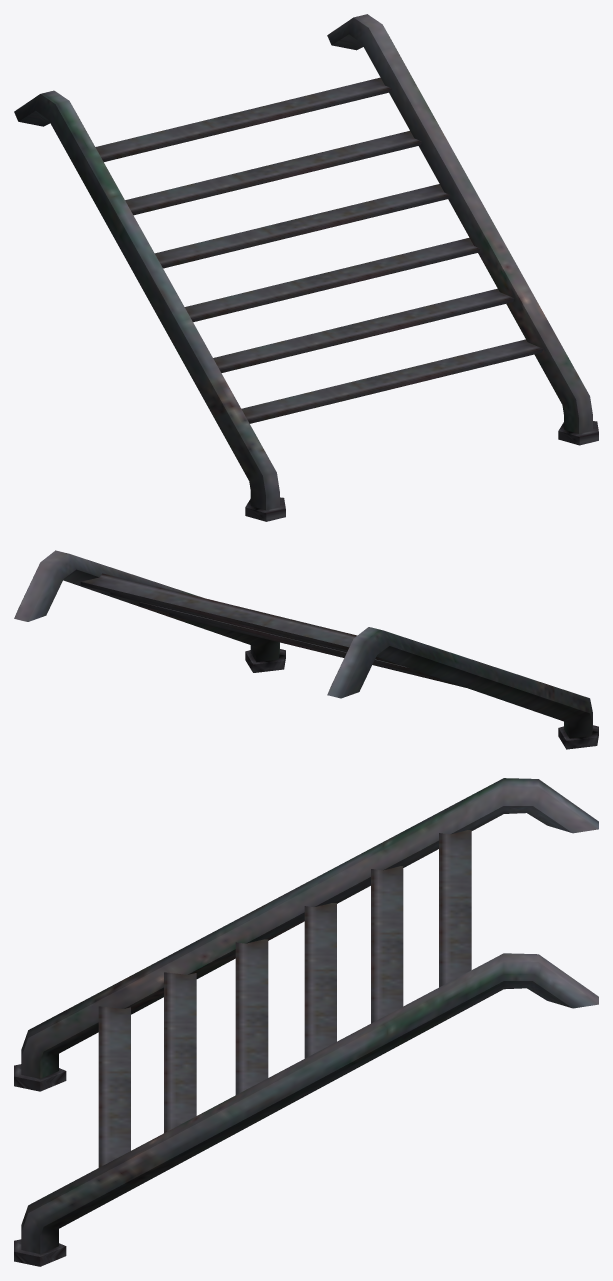
Rendered from zc_lekesigang_louti02.FBX.
3 renders of one model, top to bottom at view 1: azimuth 30°, elevation 25°; view 2: azimuth 150°, elevation 25°; view 3: azimuth 270°, elevation 25°, orthographic. The views are drawn at different scales.
Visible parts, largest first — view 1: zc_lekesigang_louti02; view 2: zc_lekesigang_louti02; view 3: zc_lekesigang_louti02.
Boxes of the visible parts, x1,y1,x2,y2 form: zc_lekesigang_louti02: [14, 14, 598, 521]; zc_lekesigang_louti02: [14, 550, 598, 749]; zc_lekesigang_louti02: [14, 778, 598, 1266].
Bounding box in the file's own units: 343 × 243 × 430.
